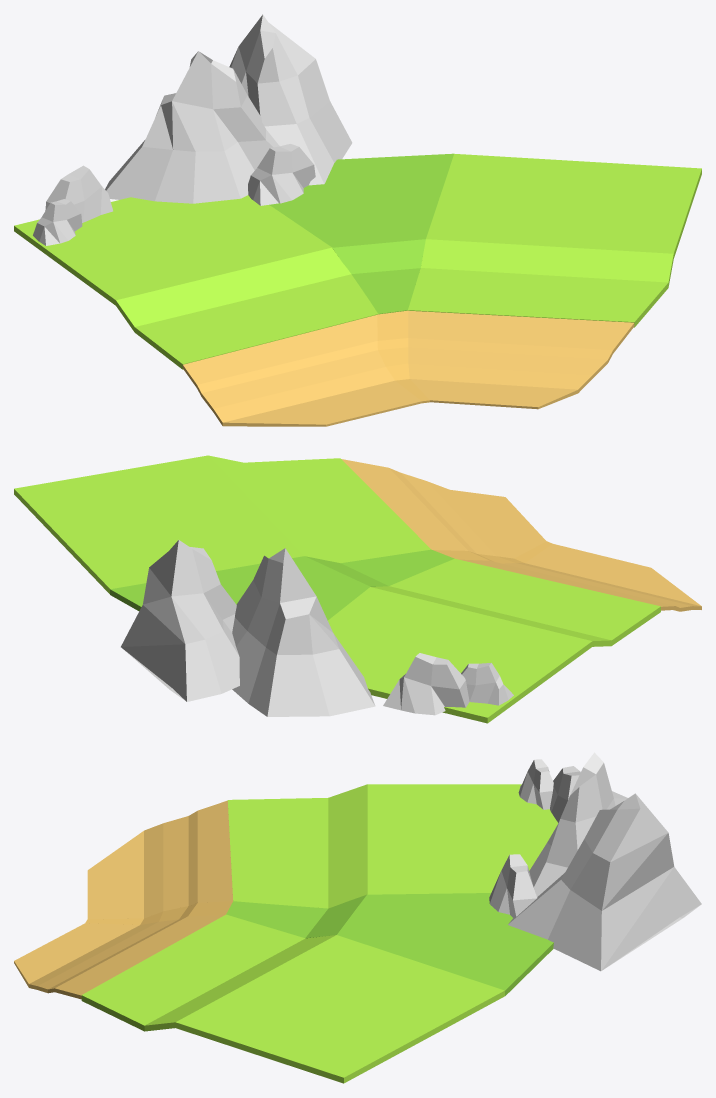
The model's file is omapa.fbx.
3 views of the same model, one above another, from view 1: azimuth 30°, elevation 25°; view 2: azimuth 150°, elevation 25°; view 3: azimuth 270°, elevation 25° (orthographic). The views are drawn at different scales.
Visible parts, largest first — view 1: Cube.005, Cube, Cube.007, Cube.006, Cube.004, Cube.003, Cube.010, Cube.011, Cube.008, Cube.002, Cube.001; view 2: Cube.005, Cube, Cube.003, Cube.010, Cube.007, Cube.004, Cube.006, Cube.002, Cube.001, Cube.008; view 3: Cube.005, Cube, Cube.010, Cube.004, Cube.006, Cube.007, Cube.003, Cube.011, Cube.008, Cube.001, Cube.002.
Boxes of the visible parts, x1,y1,x2,y2 form: Cube.005: (407, 154, 701, 327); Cube: (14, 195, 377, 369); Cube.007: (408, 310, 634, 409); Cube.006: (182, 315, 421, 426); Cube.004: (269, 153, 453, 314); Cube.003: (105, 51, 279, 203); Cube.010: (229, 14, 352, 185); Cube.011: (248, 144, 315, 205); Cube.008: (377, 310, 429, 403); Cube.002: (45, 165, 112, 222); Cube.001: (33, 199, 82, 245); Cube.005: (14, 455, 430, 593); Cube: (328, 559, 660, 723); Cube.003: (232, 548, 375, 716); Cube.010: (121, 540, 239, 701); Cube.007: (341, 459, 546, 558); Cube.004: (110, 549, 454, 620); Cube.006: (460, 544, 701, 611); Cube.002: (383, 653, 469, 715); Cube.001: (461, 663, 513, 705); Cube.008: (433, 541, 552, 563); Cube.005: (81, 914, 504, 1083); Cube: (227, 784, 558, 908); Cube.010: (508, 793, 701, 971); Cube.004: (226, 893, 553, 995); Cube.006: (87, 800, 232, 919); Cube.007: (14, 915, 223, 999); Cube.003: (529, 752, 627, 896); Cube.011: (489, 854, 537, 917); Cube.008: (85, 901, 232, 924); Cube.001: (518, 759, 553, 809); Cube.002: (550, 766, 580, 822).
Size of the model in its own units: 14317 by 4616 by 14178.
